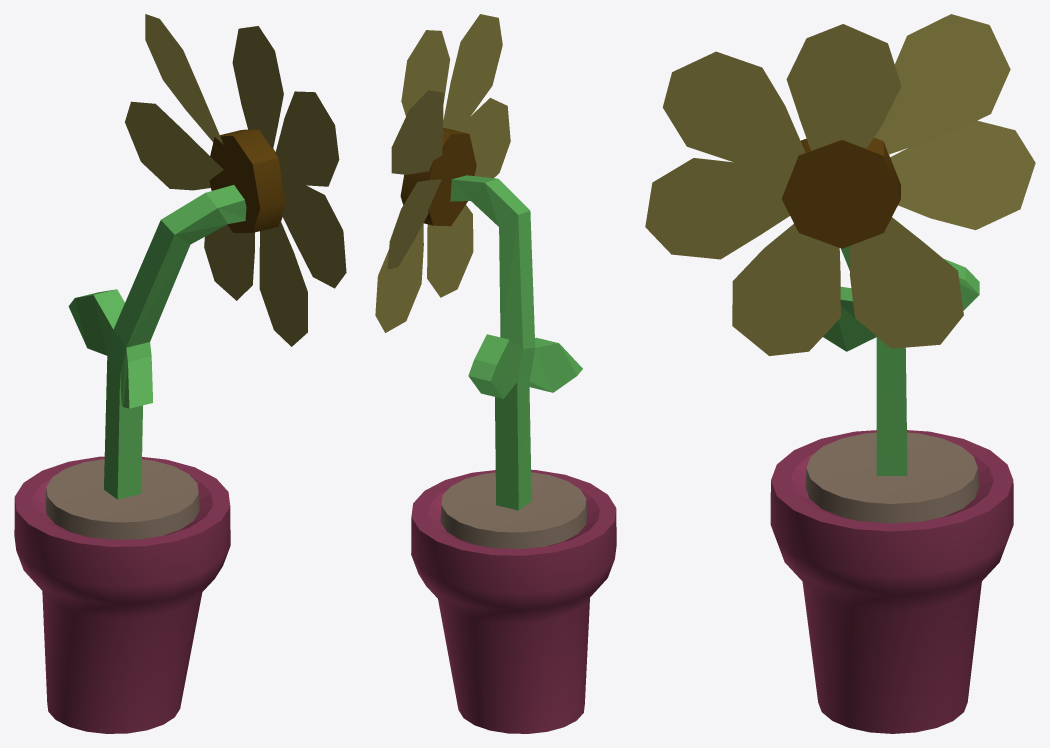
Rendered from flower.fbx.
3 renders of one model, left to right at view 1: azimuth 30°, elevation 25°; view 2: azimuth 150°, elevation 25°; view 3: azimuth 270°, elevation 25°, orthographic. The views are drawn at different scales.
Visible parts, largest first — view 1: pCylinder1, pCube1, pCube2, pCube10, pCube6, pCube7, pCube8, pCube4, pCube5, pCube9; view 2: pCylinder1, pCube1, pCube6, pCube2, pCube5, pCube8, pCube9, pCube7, pCube4, pCube10; view 3: pCylinder1, pCube5, pCube6, pCube10, pCube7, pCube9, pCube8, pCube4, pCube2, pCube1.
Boxes of the visible parts, <box> form: pCylinder1: <box>14,456,230,733</box>; pCube1: <box>68,185,246,499</box>; pCube2: <box>209,129,285,232</box>; pCube10: <box>125,101,223,190</box>; pCube6: <box>275,91,339,186</box>; pCube7: <box>281,178,346,288</box>; pCube8: <box>259,220,307,346</box>; pCube4: <box>232,26,283,149</box>; pCube5: <box>145,14,223,144</box>; pCube9: <box>204,224,254,300</box>; pCylinder1: <box>411,469,616,733</box>; pCube1: <box>450,175,582,510</box>; pCube6: <box>443,14,502,130</box>; pCube2: <box>400,128,476,226</box>; pCube5: <box>391,90,443,174</box>; pCube8: <box>427,205,473,297</box>; pCube9: <box>375,223,423,332</box>; pCube7: <box>458,98,510,178</box>; pCube4: <box>401,30,450,116</box>; pCube10: <box>387,179,441,269</box>; pCylinder1: <box>770,430,1013,733</box>; pCube5: <box>874,14,1010,154</box>; pCube6: <box>662,51,805,179</box>; pCube10: <box>890,120,1035,230</box>; pCube7: <box>645,158,789,259</box>; pCube9: <box>849,217,963,348</box>; pCube8: <box>732,224,840,355</box>; pCube4: <box>786,24,901,150</box>; pCube2: <box>782,137,900,248</box>; pCube1: <box>823,246,979,475</box>.
Size of the model in its own units: 0.9089 by 2.76 by 1.31.
